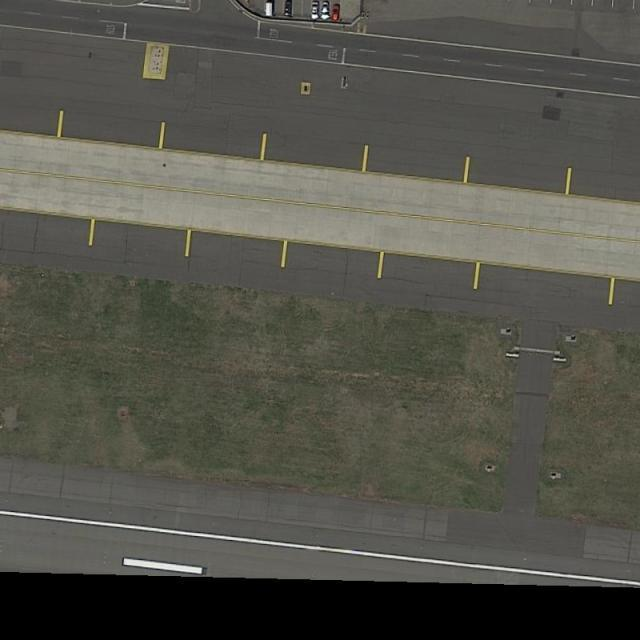vehicle: (321, 2, 330, 21), (331, 5, 341, 22), (283, 2, 293, 18), (312, 2, 318, 20)
